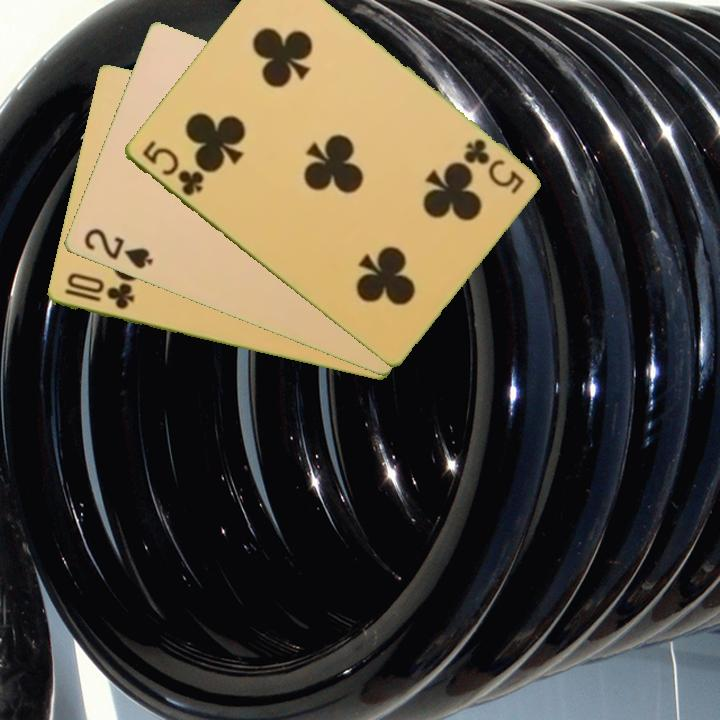10c: (60, 270, 137, 313)
2s: (79, 225, 156, 272)
5c: (138, 137, 207, 199), (460, 135, 527, 197)
